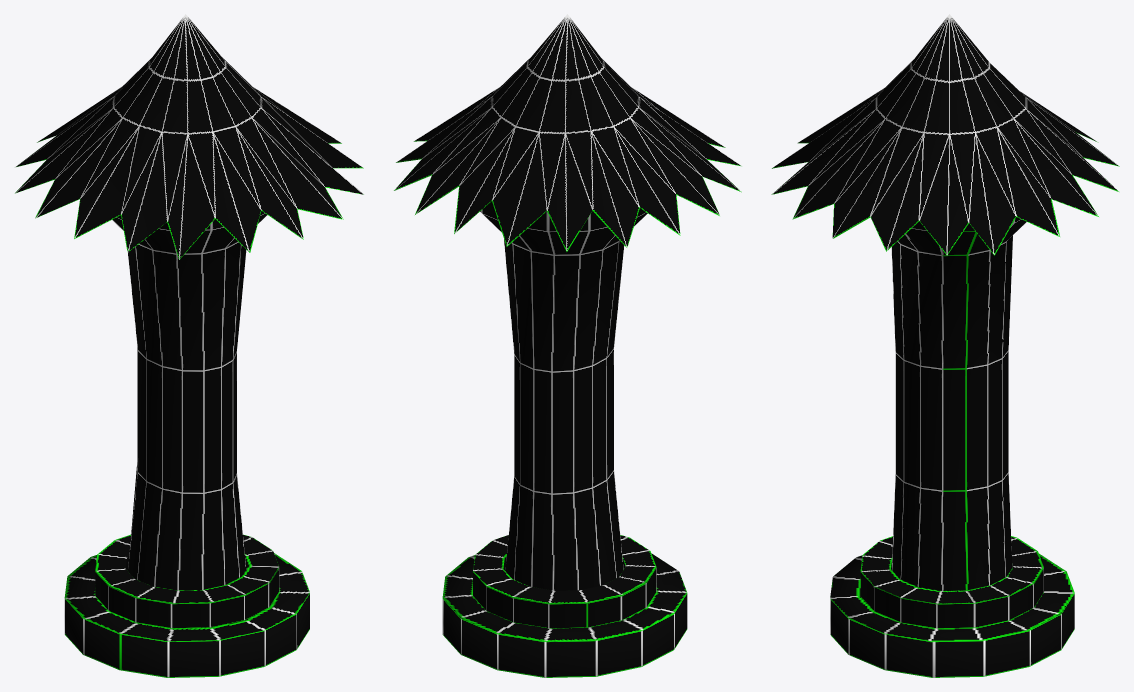
File: tower.fbx
3 views of the same model, side by side, from view 1: azimuth 30°, elevation 25°; view 2: azimuth 150°, elevation 25°; view 3: azimuth 270°, elevation 25° (orthographic).
Visible parts, largest first — view 1: tower:Cone001; view 2: tower:Cone001; view 3: tower:Cone001.
Part boxes in pixels (bbox=[...]): tower:Cone001: bbox=[15, 14, 364, 677]; tower:Cone001: bbox=[394, 14, 741, 677]; tower:Cone001: bbox=[771, 14, 1119, 677].
Bounding box in the file's own units: 376 × 716 × 370.
